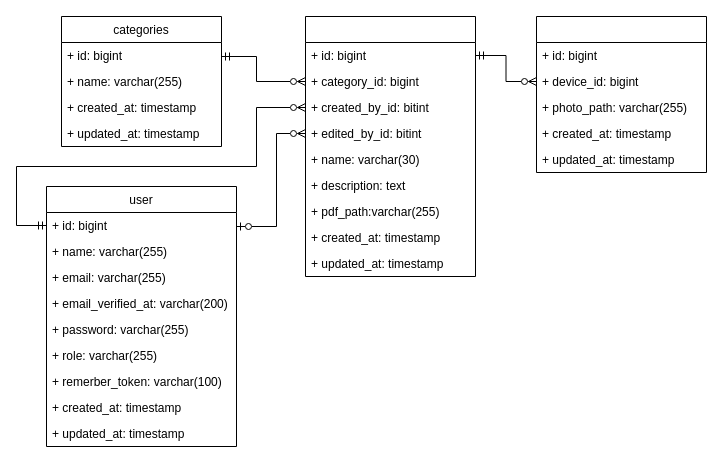
The diagram is 723 pixels wide and 463 high, and some of its shapes have lost their labels. The box of each missing label's shape, as (x1, y1, x2, y2) in pixels:
device: (304, 16, 476, 276)
photos: (536, 16, 706, 172)
